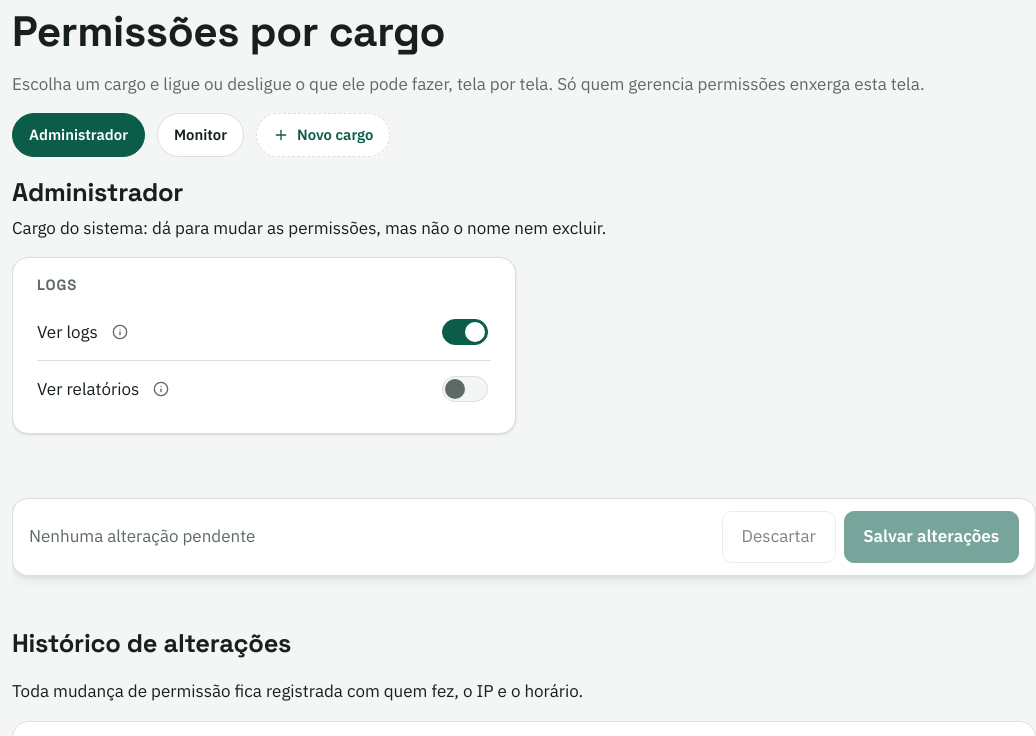
Test case: PermissionsPage - edição e salvamento › mostra o erro de salvamento com um valor desconhecido e recarrega os dados
Expected: the tab "Administrador" is shown, [12, 113, 145, 157]
Click the checkbox labelled "Ver relatórios": (465, 389) [442, 376, 488, 402]
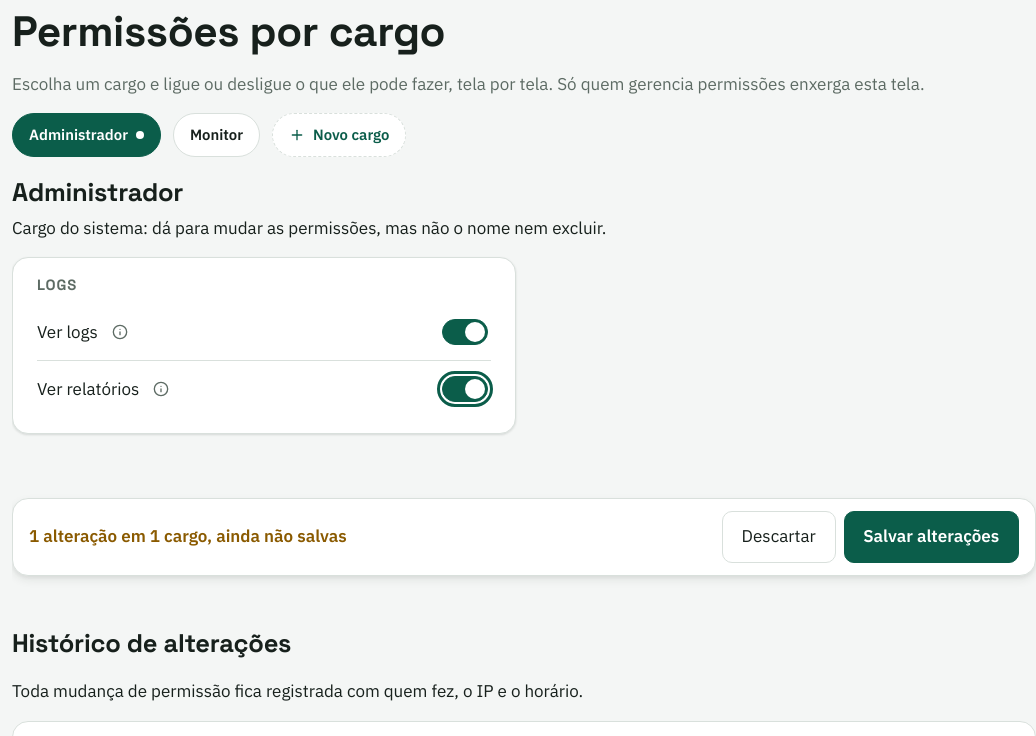
Click the button "Salvar alterações": (931, 537) [844, 511, 1019, 563]
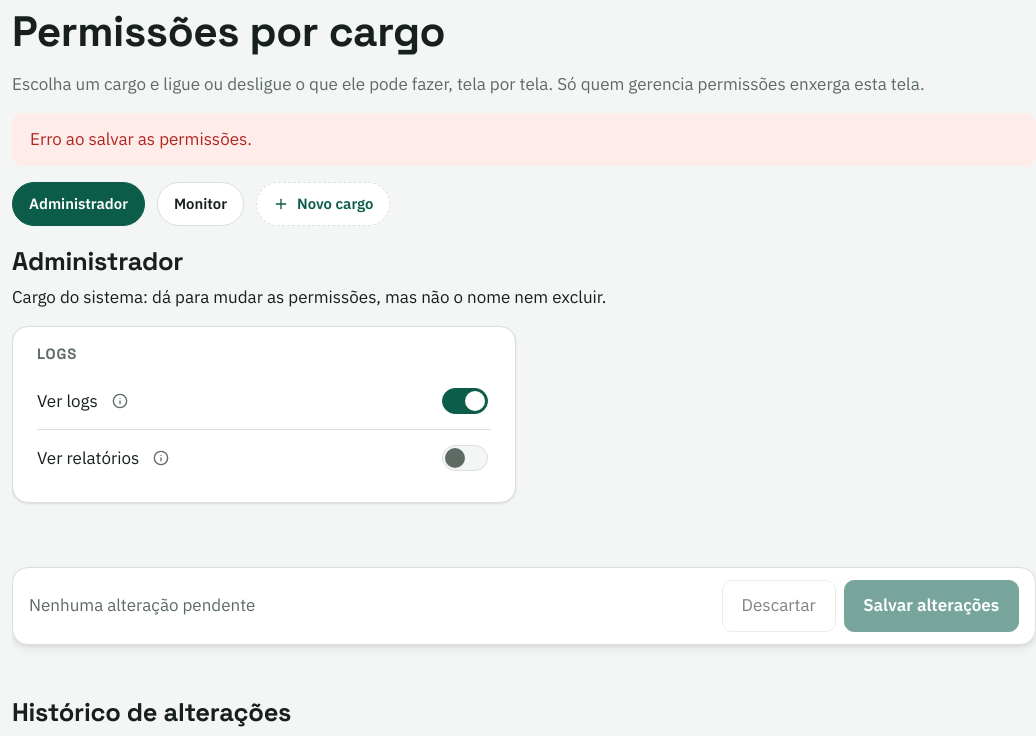
Expected: the message reads "Erro ao salvar as permissões.", [30, 128, 252, 150]
